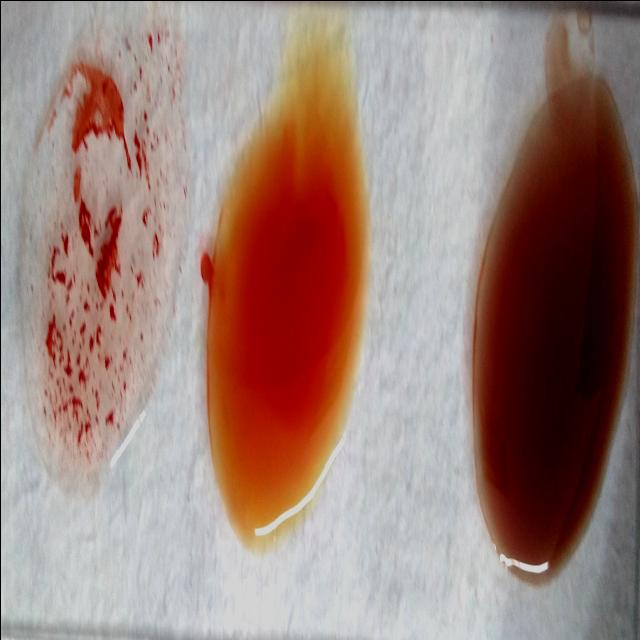D: (26, 26, 164, 468)
